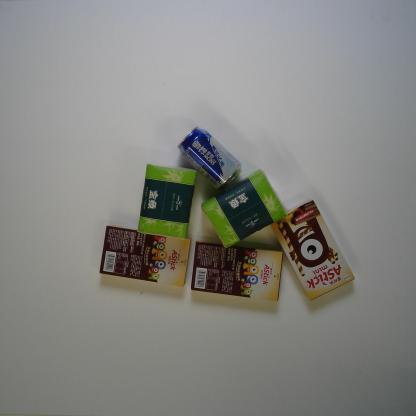Alcohol: (176, 125, 244, 189)
Dessert: (270, 198, 356, 302), (98, 224, 192, 289), (190, 240, 284, 304)
Tissue: (200, 169, 288, 249), (136, 162, 198, 240)
